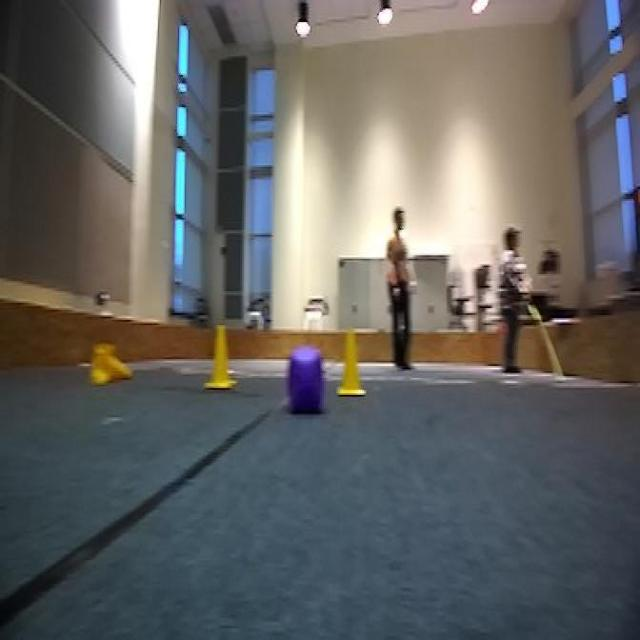frc_cone: (199, 323, 240, 390), (88, 337, 132, 386), (336, 331, 366, 398)
frc_cube: (286, 347, 326, 412)
